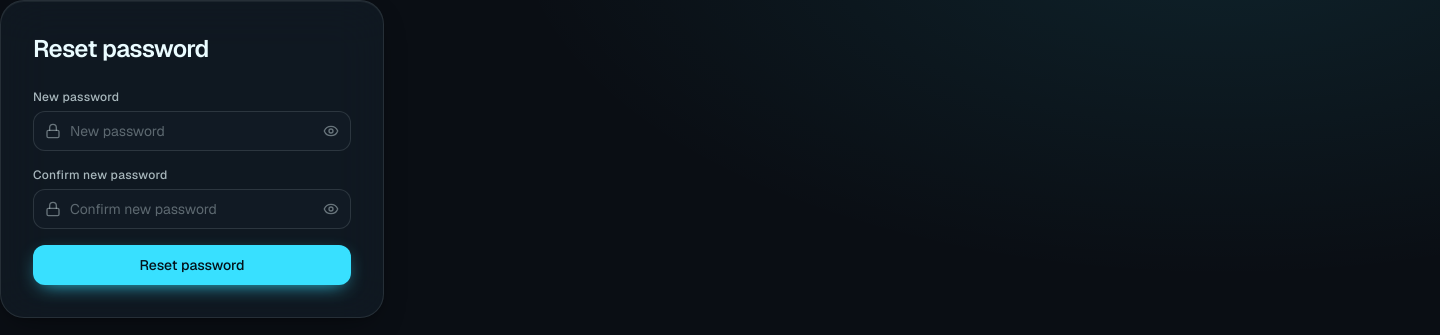
it: ResetPasswordPage › resets the password and shows a success view
The image size is (1440, 335).
Type "newpassword123" into the password field labelled "New password". click: (192, 131)
box: [33,111,351,151]
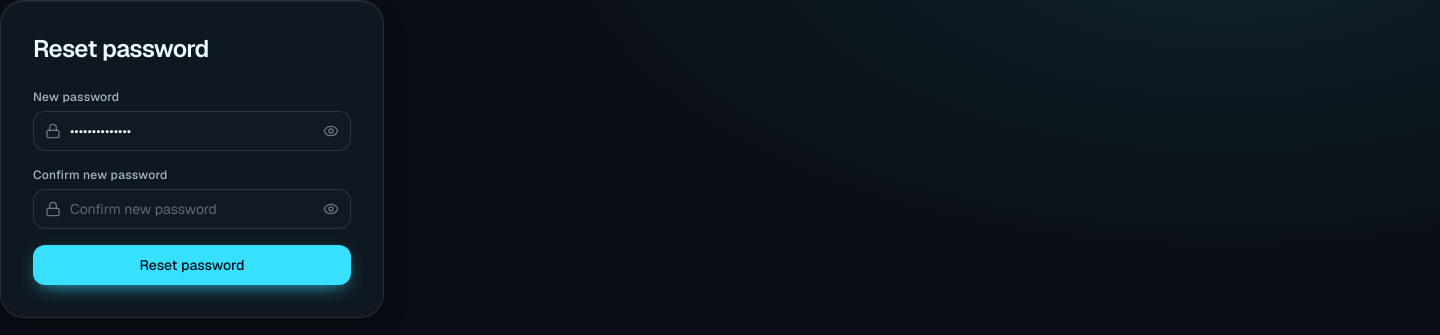
Type "newpassword123" into the password field labelled "Confirm new password". click: (192, 209)
box: [33,189,351,229]
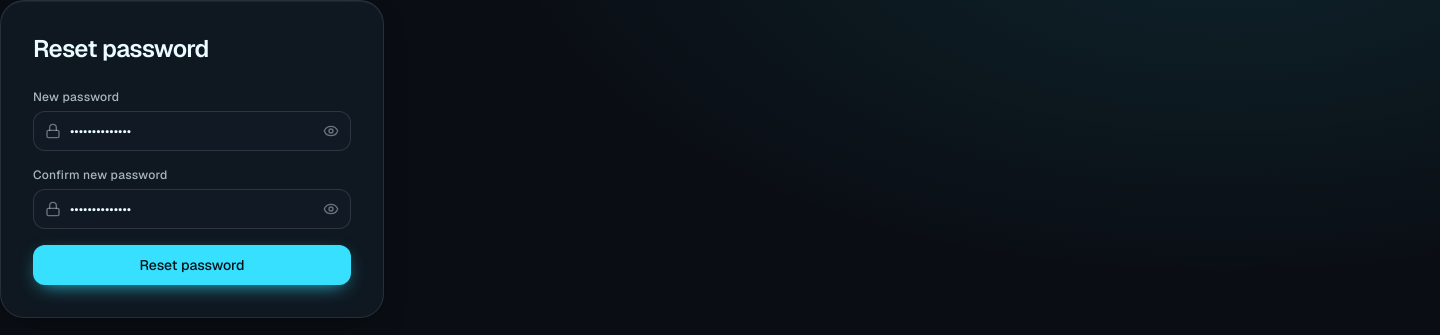
Click the button "Reset password". click: (192, 265)
box: [33,245,351,285]
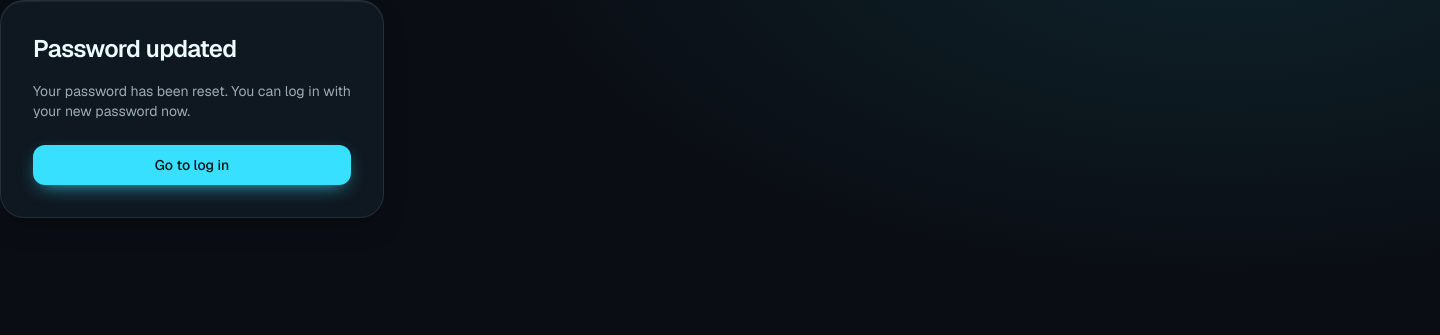
Expected: the heading "Password updated" is shown, [33,33,236,64]
